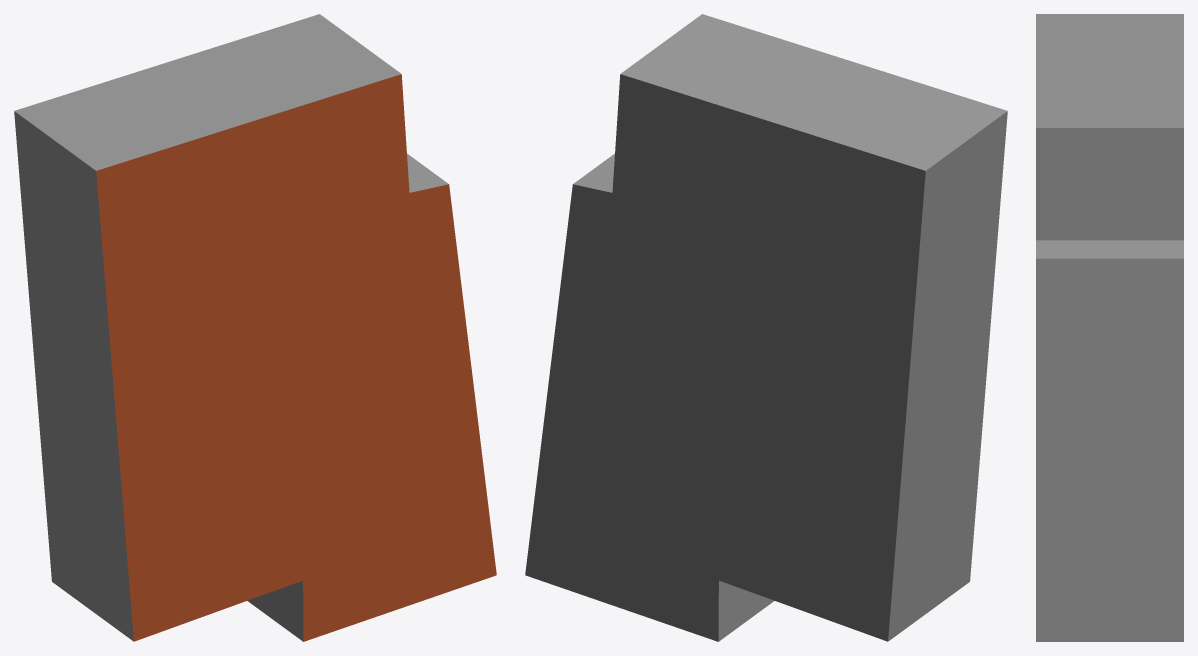
Rendered from construction_0529_assumed_A_Casa_h6m.obj.
The picture shows the model from 3 angles, left to right: view 1: azimuth 30°, elevation 25°; view 2: azimuth 150°, elevation 25°; view 3: azimuth 270°, elevation 25°; orthographic projection. The views are drawn at different scales.
Visible parts, largest first — view 1: construction_0529_assumed_A_Casa; view 2: construction_0529_assumed_A_Casa; view 3: construction_0529_assumed_A_Casa.
Part boxes in pixels (<box>): construction_0529_assumed_A_Casa: <box>14,14,496,641</box>; construction_0529_assumed_A_Casa: <box>525,14,1007,641</box>; construction_0529_assumed_A_Casa: <box>1036,14,1183,641</box>.
Bounding box in the file's own units: 16.92 × 21.95 × 6.
